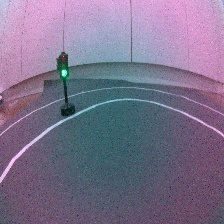green: (54, 50, 77, 118)
